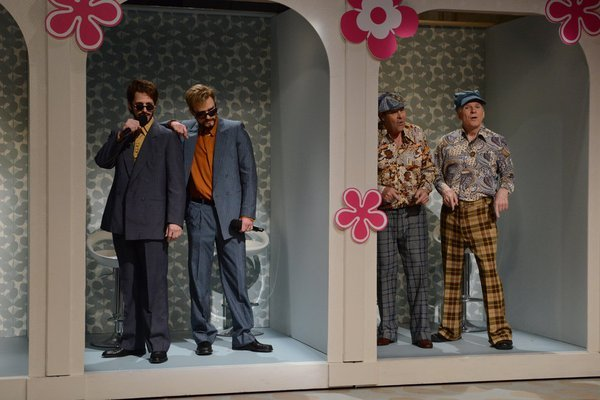27: (189, 91, 219, 132)
33: (127, 87, 157, 126)
48: (378, 98, 408, 134), (456, 94, 486, 130)
Belt: (184, 193, 219, 207)
Coat: (151, 117, 261, 244), (92, 119, 184, 248)
Glasses: (186, 107, 224, 121), (123, 102, 156, 113)
Male: (189, 91, 219, 132), (127, 87, 157, 126), (378, 98, 408, 134), (456, 94, 486, 130)
P-Cap: (445, 89, 492, 115), (375, 89, 410, 115)
Pants: (181, 198, 260, 352), (107, 229, 179, 357)
Shirt: (427, 126, 519, 203), (368, 121, 436, 214), (188, 115, 227, 208), (127, 119, 154, 166)
Shoes: (228, 338, 275, 359), (100, 343, 149, 359), (430, 327, 466, 345), (375, 331, 399, 352), (191, 341, 220, 358), (487, 336, 517, 352), (146, 351, 171, 368), (406, 336, 435, 350)
Trouser: (438, 197, 516, 347), (372, 207, 436, 345)
